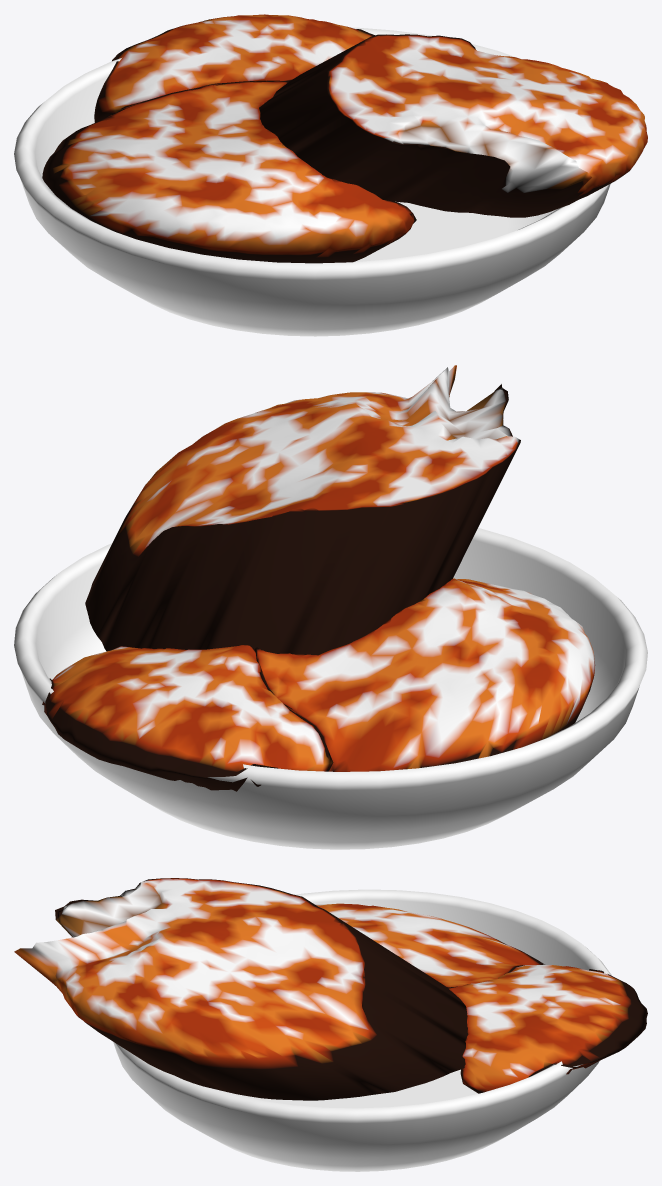
3 renders of one model, top to bottom at view 1: azimuth 30°, elevation 25°; view 2: azimuth 150°, elevation 25°; view 3: azimuth 270°, elevation 25°, orthographic. The views are drawn at different scales.
Visible parts, largest first — view 1: SM_D01; view 2: SM_D01; view 3: SM_D01.
Part boxes in pixels (x1=…): SM_D01: x1=14, y1=14, x2=647, y2=336; SM_D01: x1=14, y1=365, x2=647, y2=849; SM_D01: x1=14, y1=878, x2=647, y2=1171.
Bounding box in the file's own units: 0.1858 × 0.0775 × 0.2207.
